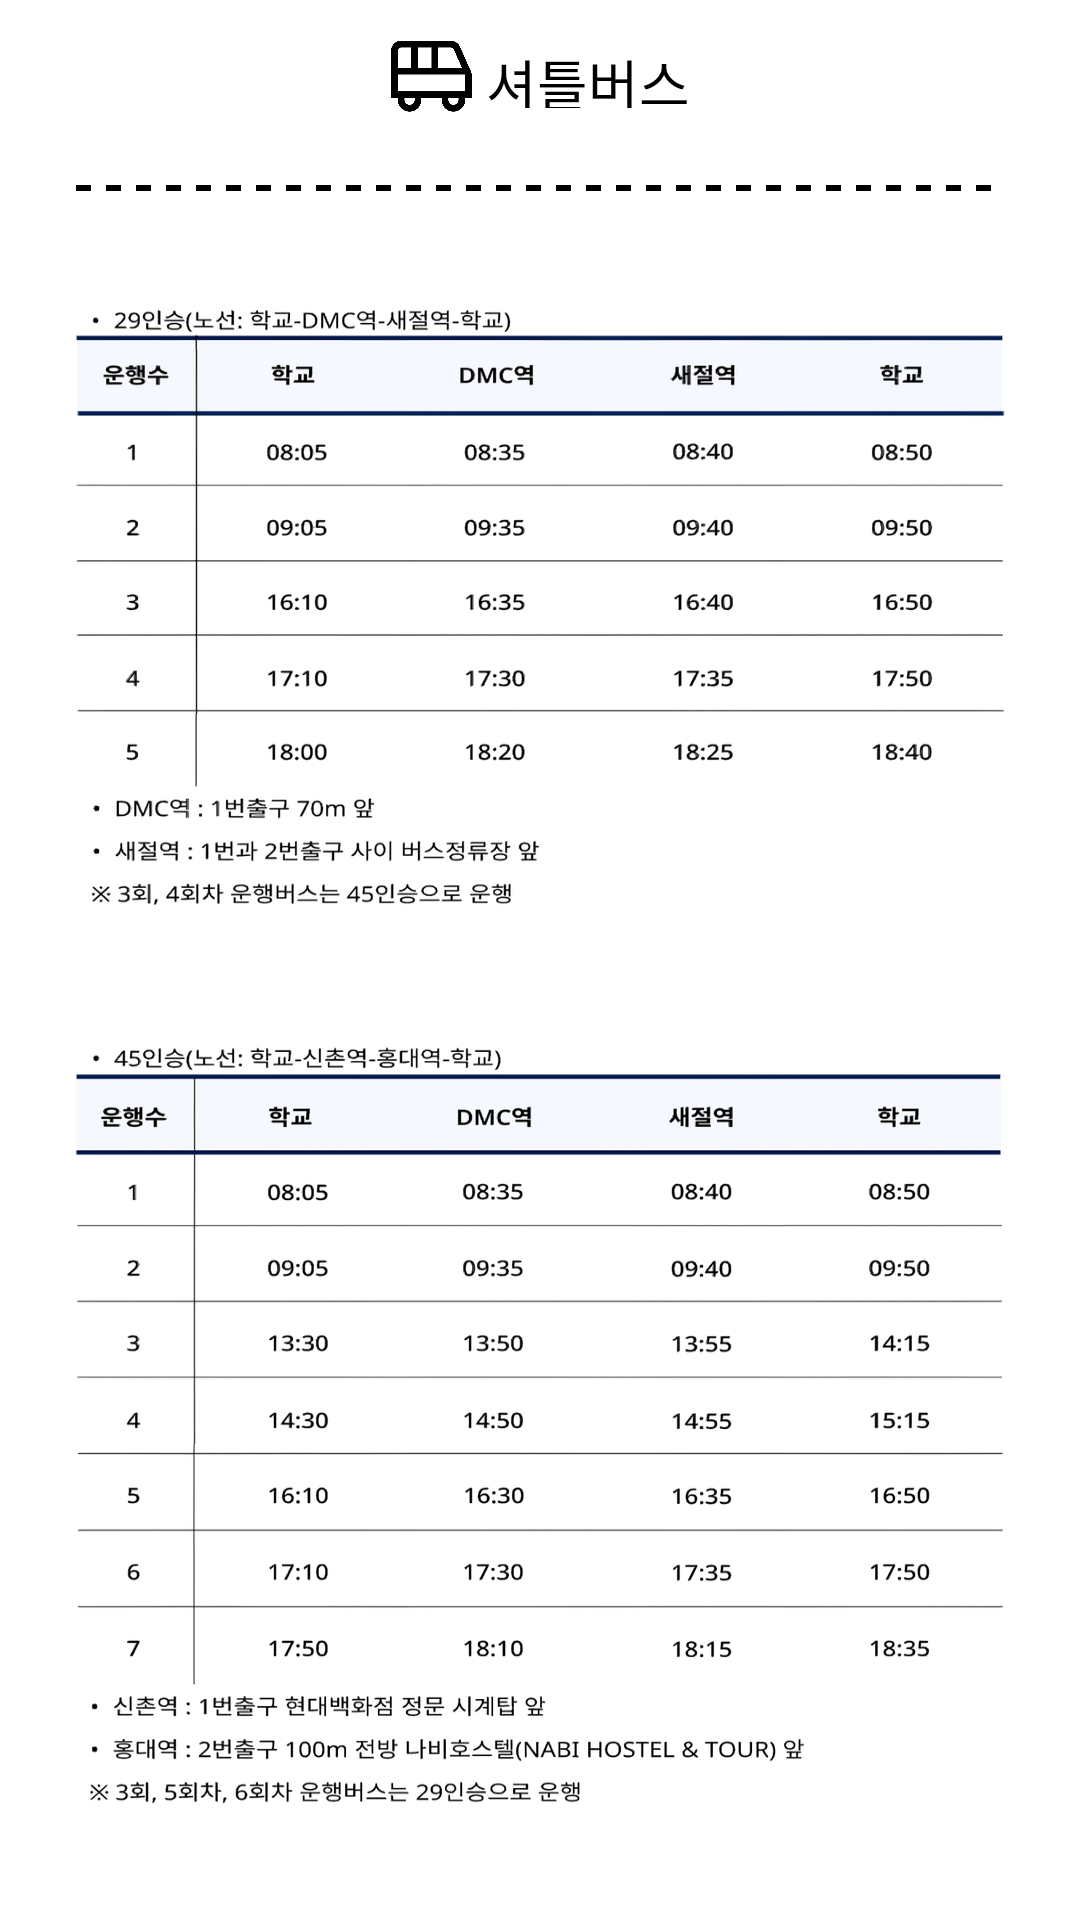

Where icons sit on this 1080w x 1920h app screen, as (x1, y1, x2, y2):
bus: (391, 41, 472, 112)
